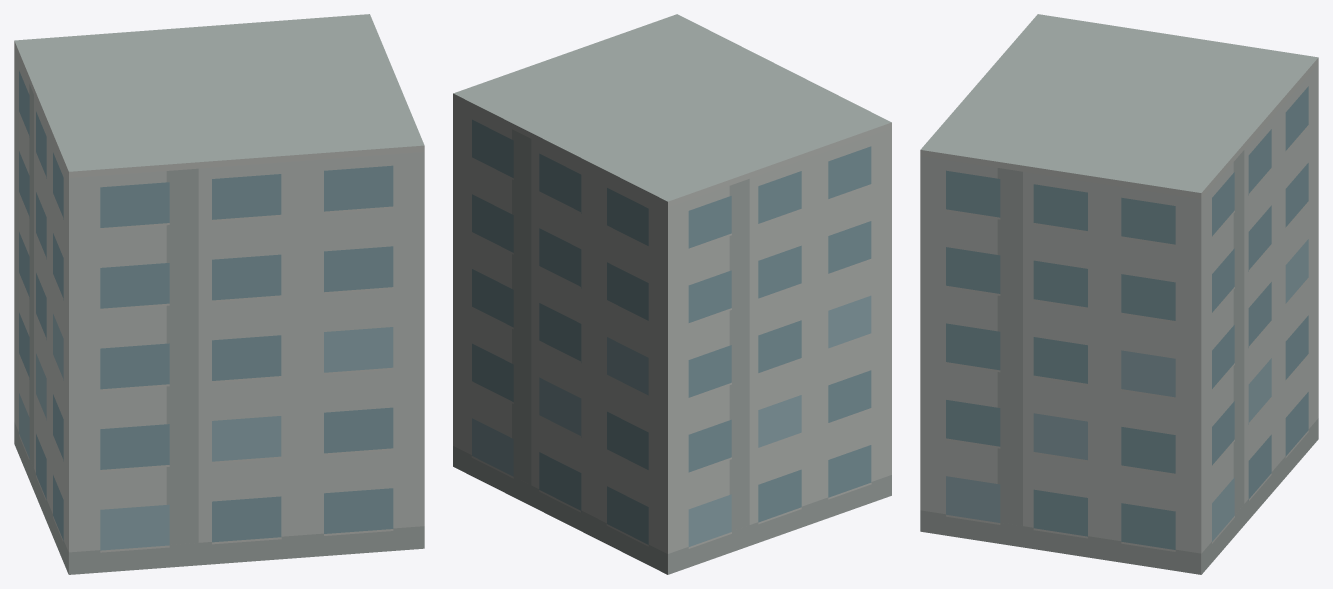
The model's file is residential-de6b7e79-5bf0-4037-9a5b-4e15cbba6385.glb.
3 views of the same model, side by side, from view 1: azimuth 30°, elevation 25°; view 2: azimuth 150°, elevation 25°; view 3: azimuth 270°, elevation 25° (orthographic). The views are drawn at different scales.
Visible parts, largest first — view 1: residential-de6b7e79-5bf0-4037-9a5b-4e15cbba6385.tmp; view 2: residential-de6b7e79-5bf0-4037-9a5b-4e15cbba6385.tmp; view 3: residential-de6b7e79-5bf0-4037-9a5b-4e15cbba6385.tmp.
Boxes of the visible parts, bbox=[...] form: residential-de6b7e79-5bf0-4037-9a5b-4e15cbba6385.tmp: bbox=[14, 14, 424, 574]; residential-de6b7e79-5bf0-4037-9a5b-4e15cbba6385.tmp: bbox=[453, 14, 891, 574]; residential-de6b7e79-5bf0-4037-9a5b-4e15cbba6385.tmp: bbox=[920, 14, 1318, 574].
Size of the model in its own units: 15.35 by 15.25 by 14.43.
